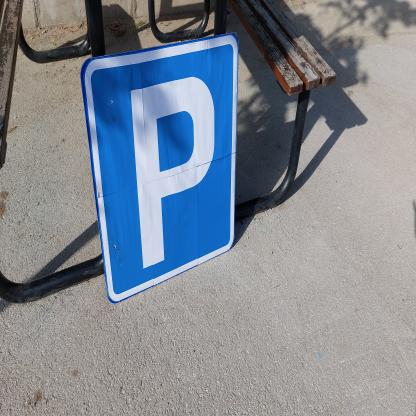Parking-Sign: (80, 31, 240, 310)
